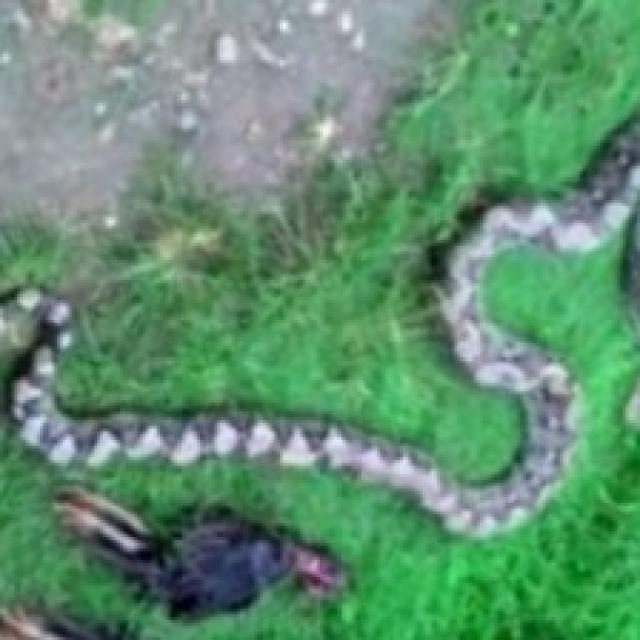reticulated python: (0, 123, 637, 534)
